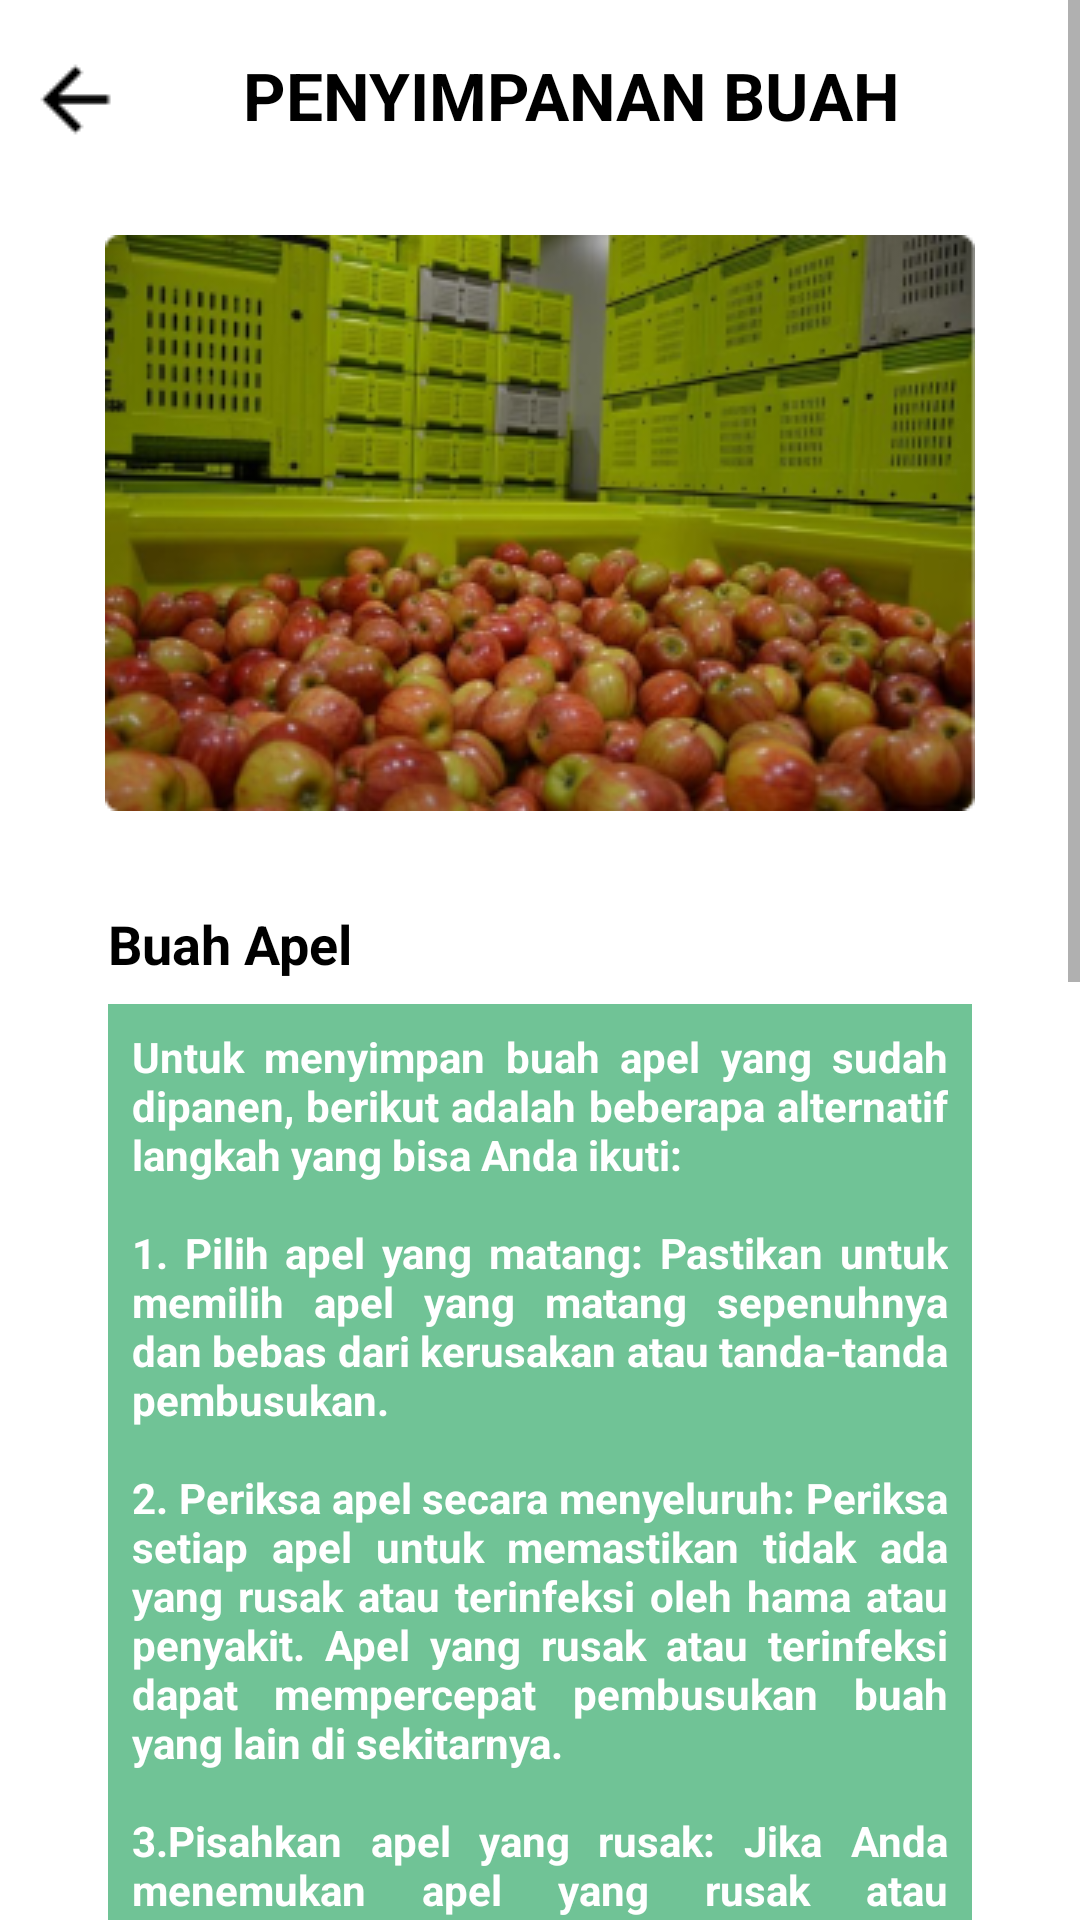

Icons on this 1080w x 1920h Android screen, each with its box as bbox=[x1, y1, x2, y2]:
arrow back: bbox=[41, 65, 111, 134]
